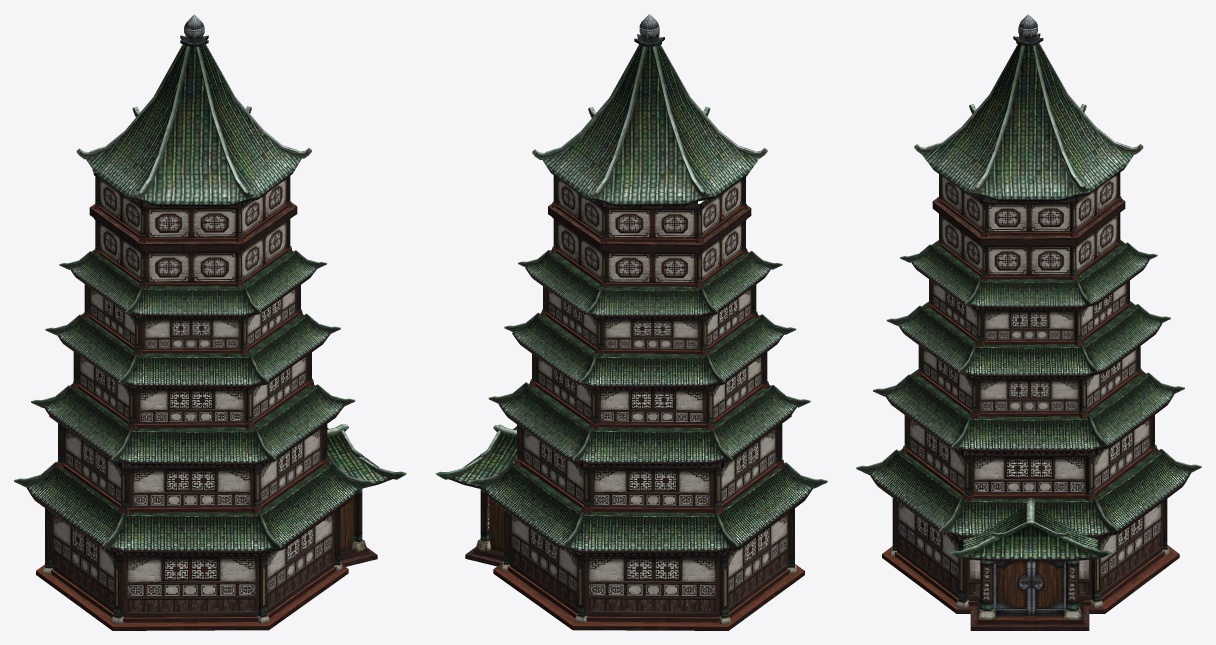
The model's file is c1-013-6tower.glb.
3 views of the same model, side by side, from view 1: azimuth 30°, elevation 25°; view 2: azimuth 150°, elevation 25°; view 3: azimuth 270°, elevation 25° (orthographic). The views are drawn at different scales.
Visible parts, largest first — view 1: b1-013-6tower-01; view 2: b1-013-6tower-01; view 3: b1-013-6tower-01.
Part boxes in pixels (x1,y1,x2,y2): b1-013-6tower-01: (14, 14, 406, 630); b1-013-6tower-01: (435, 14, 827, 630); b1-013-6tower-01: (856, 14, 1201, 630).
Bounding box in the file's own units: 15.6 × 27.14 × 15.61.
2 materials, 2 textured.
